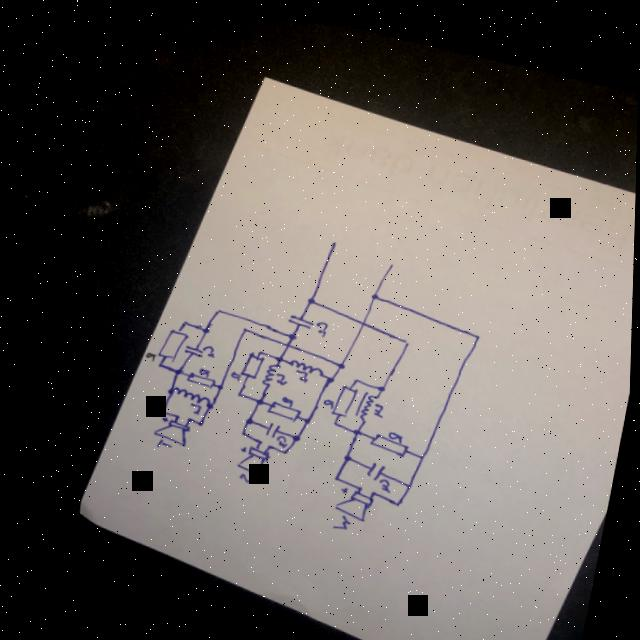capacitor: (366, 453, 388, 476), (287, 308, 315, 325), (182, 340, 205, 354), (267, 416, 281, 434)
crossover: (282, 336, 294, 345), (360, 312, 370, 322)
inductor: (167, 382, 215, 404), (355, 382, 381, 418), (288, 353, 326, 372), (261, 355, 281, 384)
junction: (325, 369, 336, 379), (292, 428, 303, 438), (282, 443, 293, 453), (256, 392, 267, 402), (336, 356, 348, 365), (240, 321, 251, 330), (196, 415, 207, 424), (302, 411, 313, 420), (244, 412, 255, 421), (239, 424, 250, 433), (305, 291, 317, 299), (216, 378, 227, 386), (183, 411, 194, 419), (401, 331, 412, 339), (377, 377, 388, 385), (352, 370, 363, 378), (370, 286, 381, 294), (179, 316, 189, 324), (156, 358, 166, 366), (202, 323, 212, 331), (288, 327, 298, 335), (214, 303, 224, 311), (175, 365, 185, 373), (173, 410, 183, 418), (206, 398, 216, 406), (276, 349, 285, 357), (354, 422, 363, 430), (418, 446, 427, 454), (405, 475, 414, 483), (343, 448, 353, 455), (166, 385, 176, 392), (257, 342, 265, 350), (257, 434, 266, 441), (473, 325, 482, 332), (357, 479, 366, 486), (370, 483, 379, 490), (236, 386, 244, 393), (334, 469, 342, 476), (267, 439, 276, 445), (161, 405, 168, 412), (332, 414, 339, 420), (395, 495, 403, 500)
resistor: (369, 425, 412, 452), (157, 324, 189, 359), (332, 377, 360, 413), (267, 396, 303, 419), (241, 347, 265, 375), (186, 368, 217, 386)
terminal: (387, 255, 396, 265), (330, 234, 338, 243)
text: (333, 507, 352, 526), (314, 314, 330, 333), (294, 364, 311, 380), (378, 470, 394, 487), (372, 395, 387, 412), (202, 340, 218, 355), (275, 367, 290, 382), (188, 398, 204, 412), (388, 424, 405, 437), (277, 429, 294, 442), (158, 435, 174, 448), (282, 391, 297, 404), (145, 348, 159, 359), (239, 468, 254, 478), (323, 392, 336, 403), (230, 366, 243, 377), (199, 364, 212, 375)
